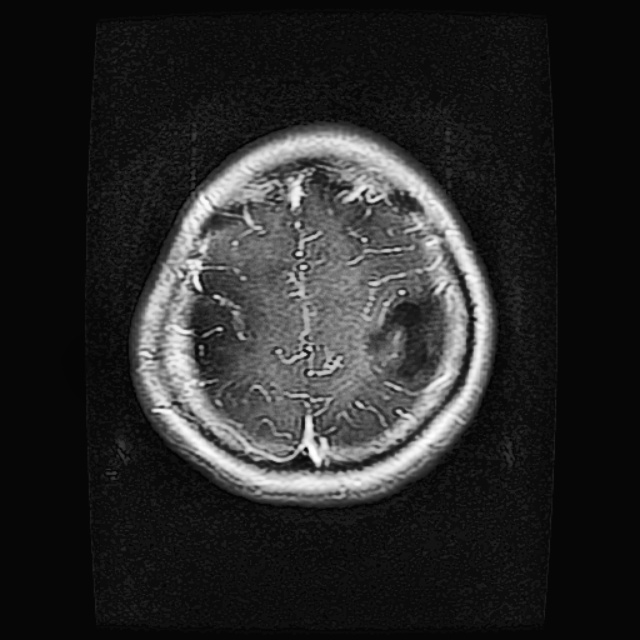Glioma: (374, 282, 448, 375)
